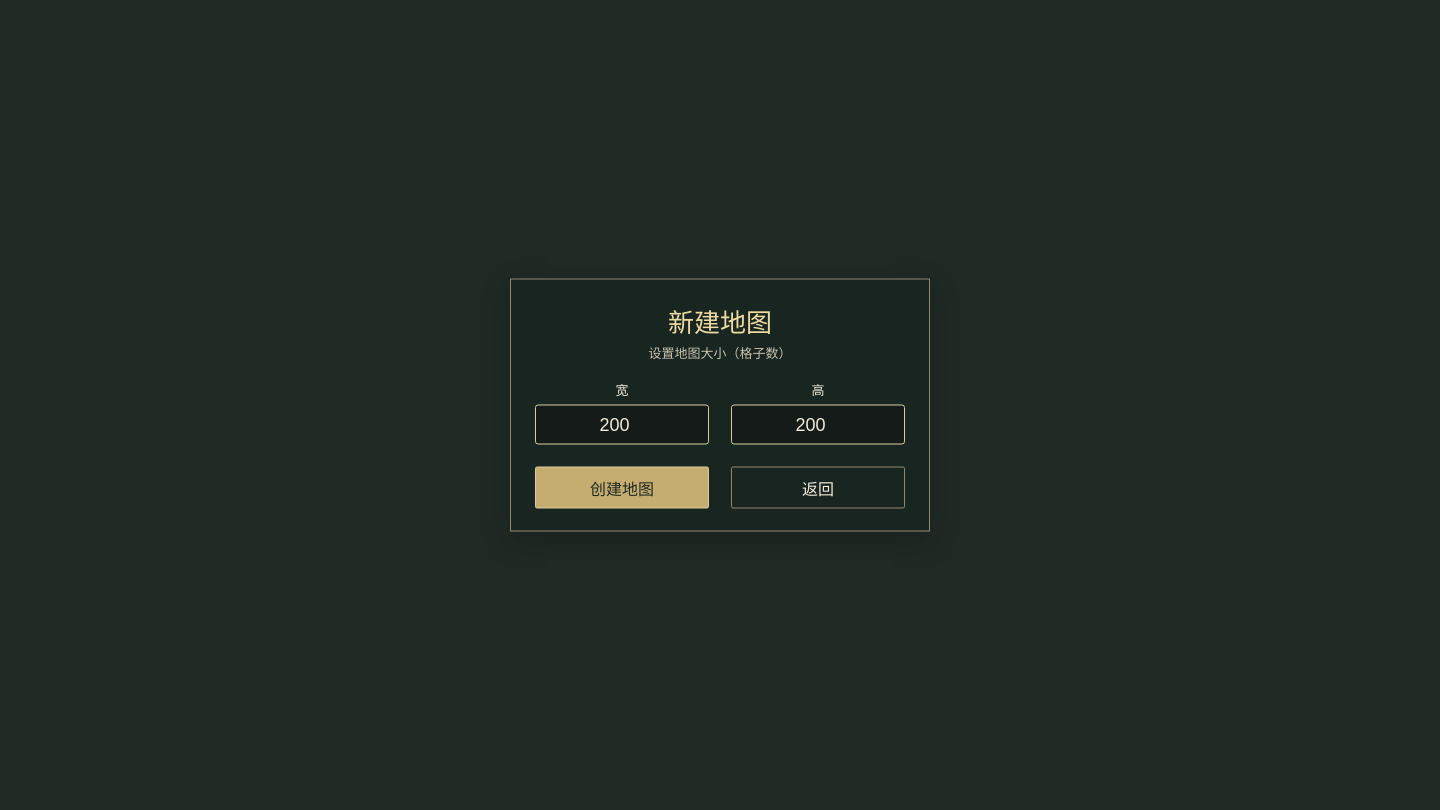
Scenario: MapEditorScreen 建设用地手动分配 › 没有有主城池时给出无法开局的提示
This screenshot has width=1440, height=810.
Replace the text in the number field with test id "editor-size-width" with "40": {"x": 622, "y": 424} 535,404 -> 709,444
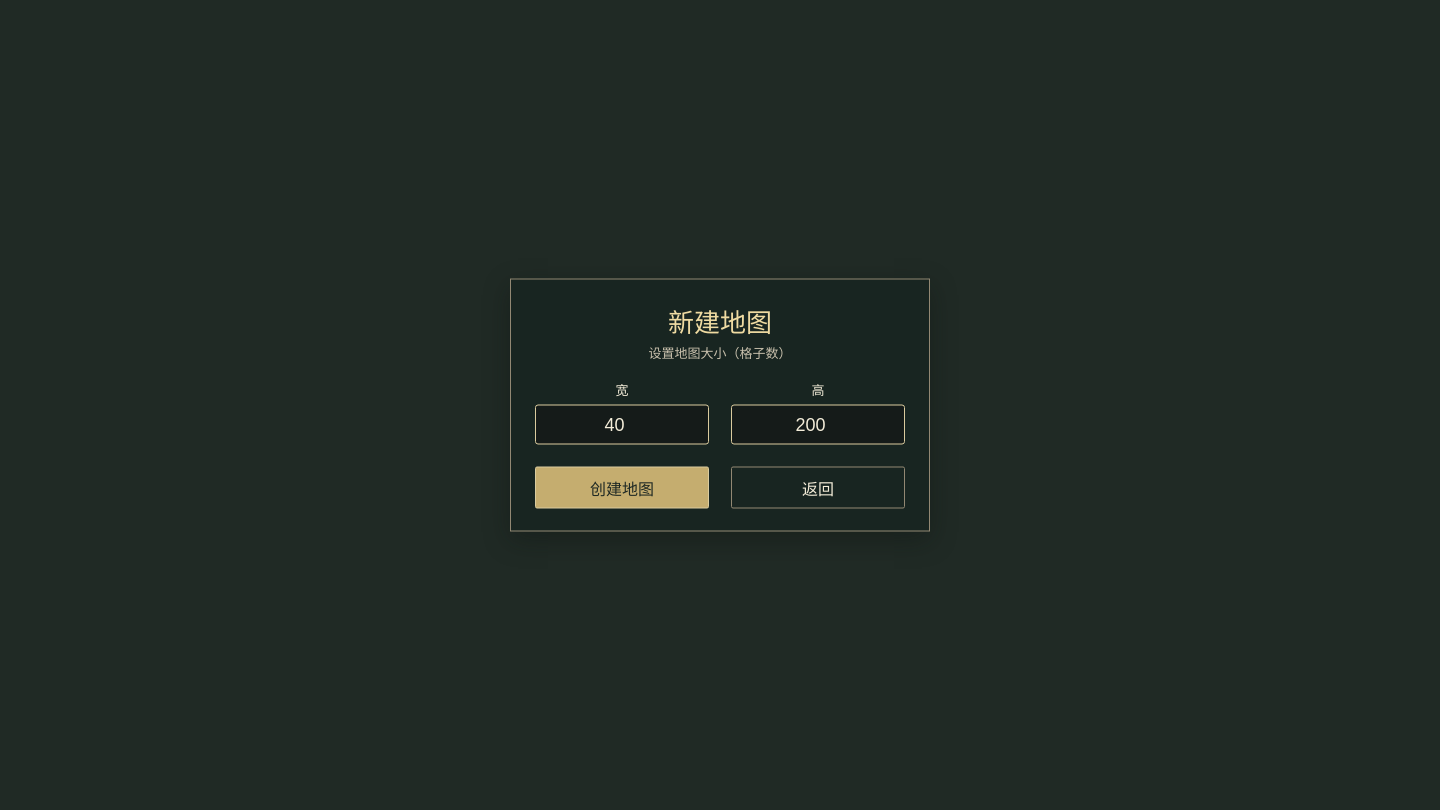
Replace the text in the number field with test id "editor-size-height" with "40": {"x": 818, "y": 424} 731,404 -> 905,444
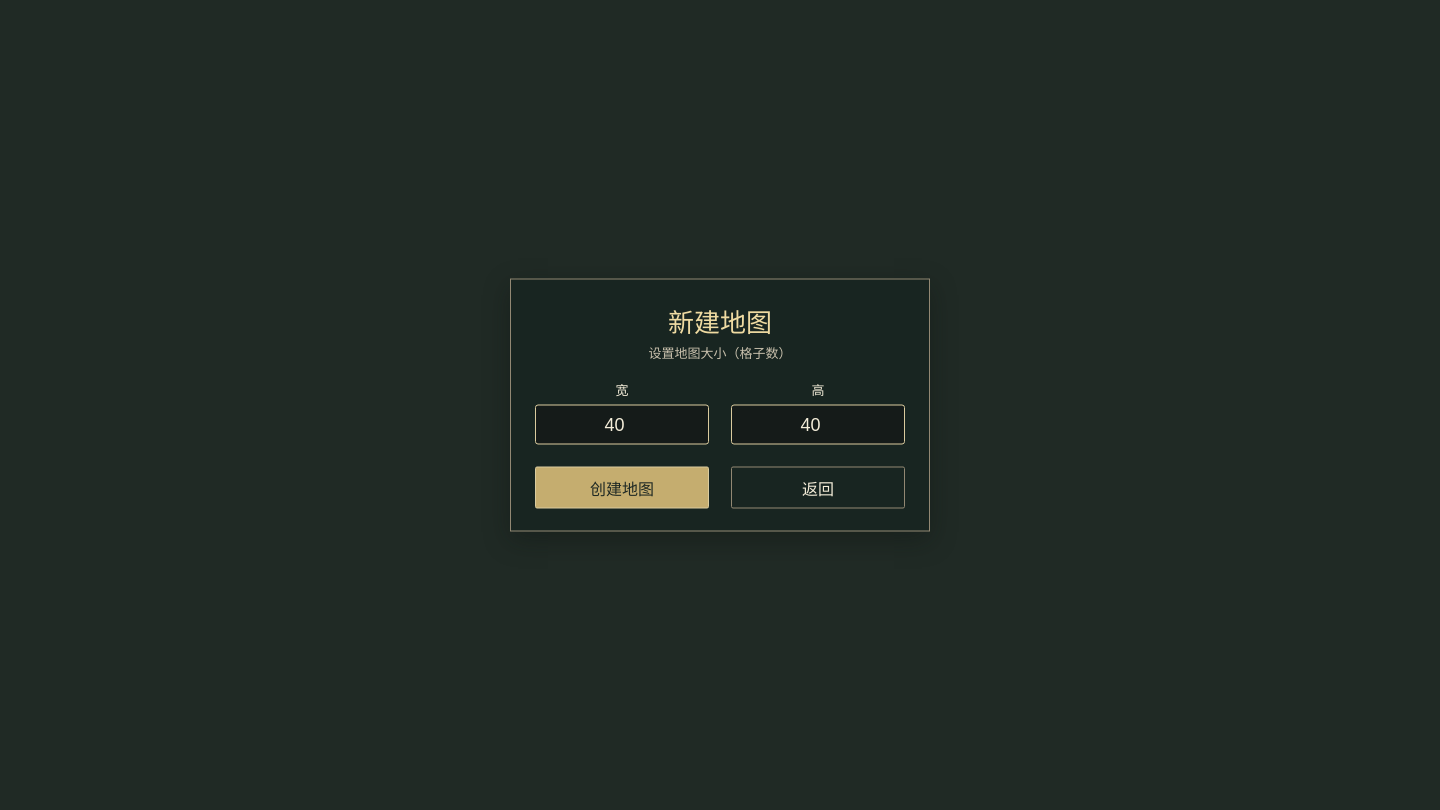
Click the button with test id "editor-size-create": {"x": 622, "y": 488} 535,466 -> 709,508
(page scrolled)
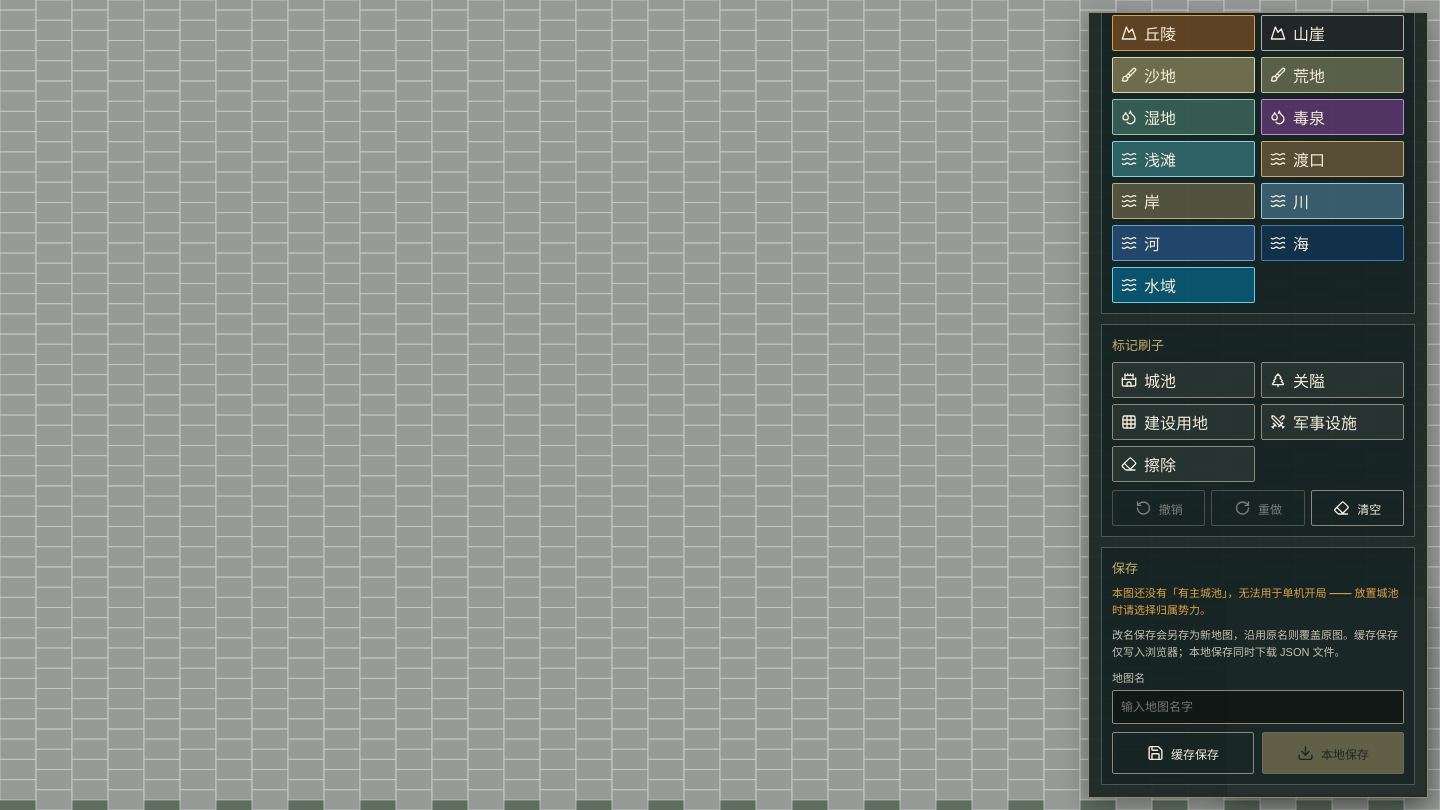
Check: the text with test id "editor-force-count" shows "无法用于单机开局", box 1112,587 -> 1399,616
